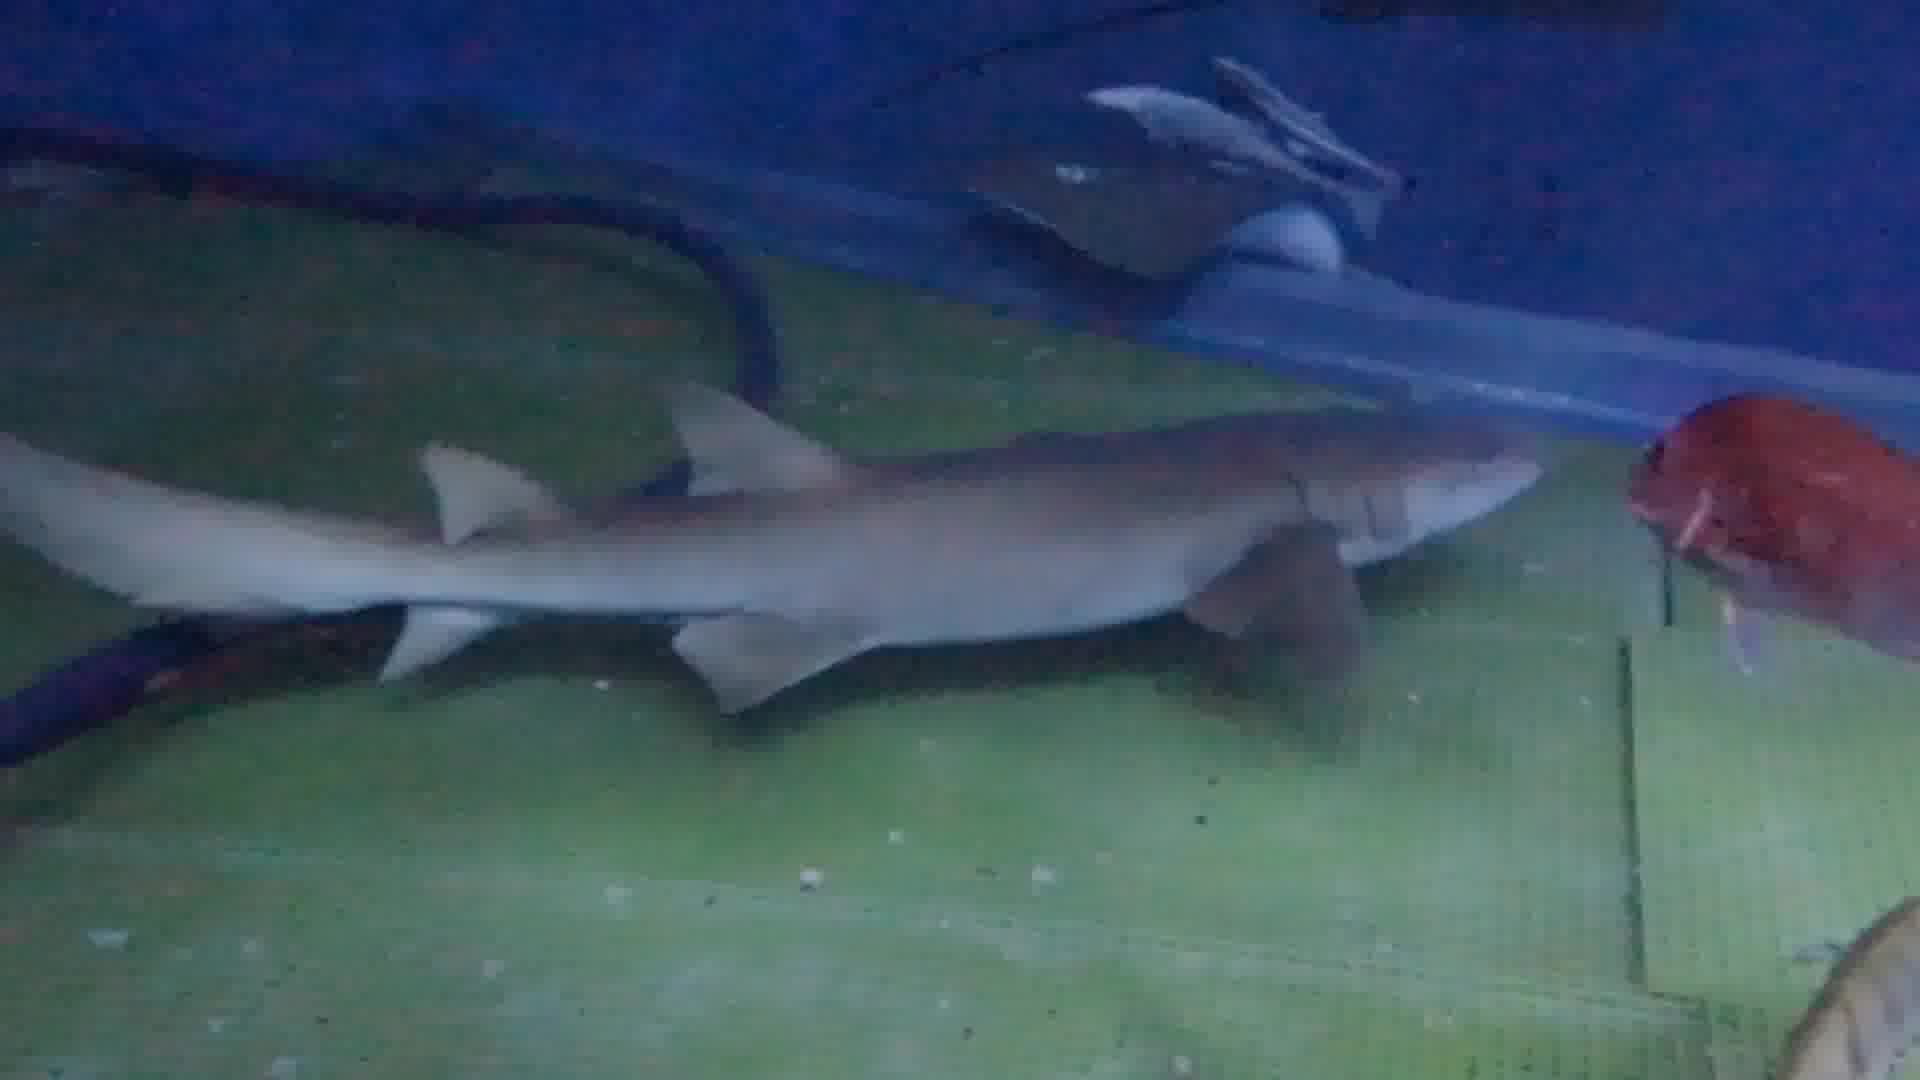Nebrius ferrugineus: (108, 375, 1526, 702)
